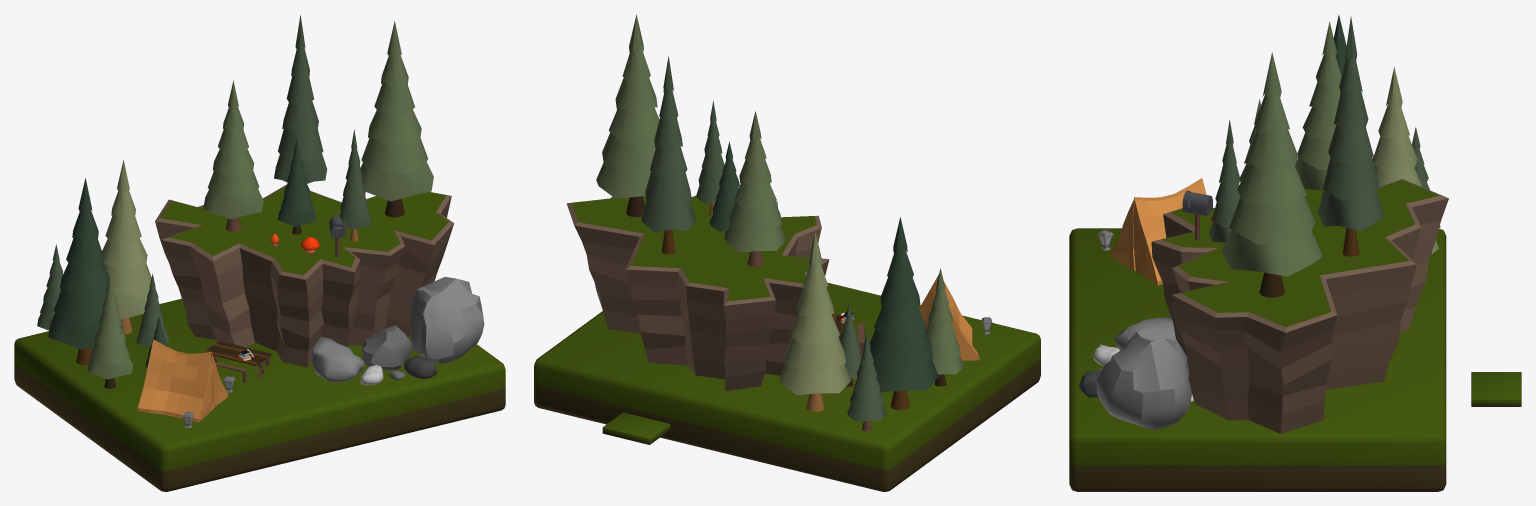
The model's file is Camp_Scene_With_Mailbox_Books_Original.glb.
3 views of the same model, side by side, from view 1: azimuth 30°, elevation 25°; view 2: azimuth 150°, elevation 25°; view 3: azimuth 270°, elevation 25° (orthographic). The views are drawn at different scales.
Visible parts, largest first — view 1: nature_threes_mashrooms_cliff, ground, nature_rocks, nature_tent_lights_table_bench; view 2: nature_threes_mashrooms_cliff, ground, nature_tent_lights_table_bench, ground.002; view 3: nature_threes_mashrooms_cliff, ground, nature_rocks, nature_tent_lights_table_bench, ground.002, Mailbox.
Part boxes in pixels (left/top/right/bottom): nature_threes_mashrooms_cliff: left=37, top=15, right=454, bottom=388; ground: left=14, top=298, right=505, bottom=491; nature_rocks: left=311, top=277, right=484, bottom=385; nature_tent_lights_table_bench: left=137, top=339, right=271, bottom=428; nature_threes_mashrooms_cliff: left=566, top=14, right=963, bottom=431; ground: left=534, top=282, right=1040, bottom=491; nature_tent_lights_table_bench: left=832, top=273, right=992, bottom=360; ground.002: left=602, top=412, right=670, bottom=444; nature_threes_mashrooms_cliff: left=1151, top=14, right=1448, bottom=433; ground: left=1069, top=228, right=1446, bottom=491; nature_rocks: left=1078, top=317, right=1193, bottom=430; nature_tent_lights_table_bench: left=1097, top=178, right=1206, bottom=285; ground.002: left=1471, top=372, right=1521, bottom=406; Mailbox: left=1182, top=190, right=1212, bottom=240.
Size of the model in its own units: 4.33 by 3.74 by 3.61.
